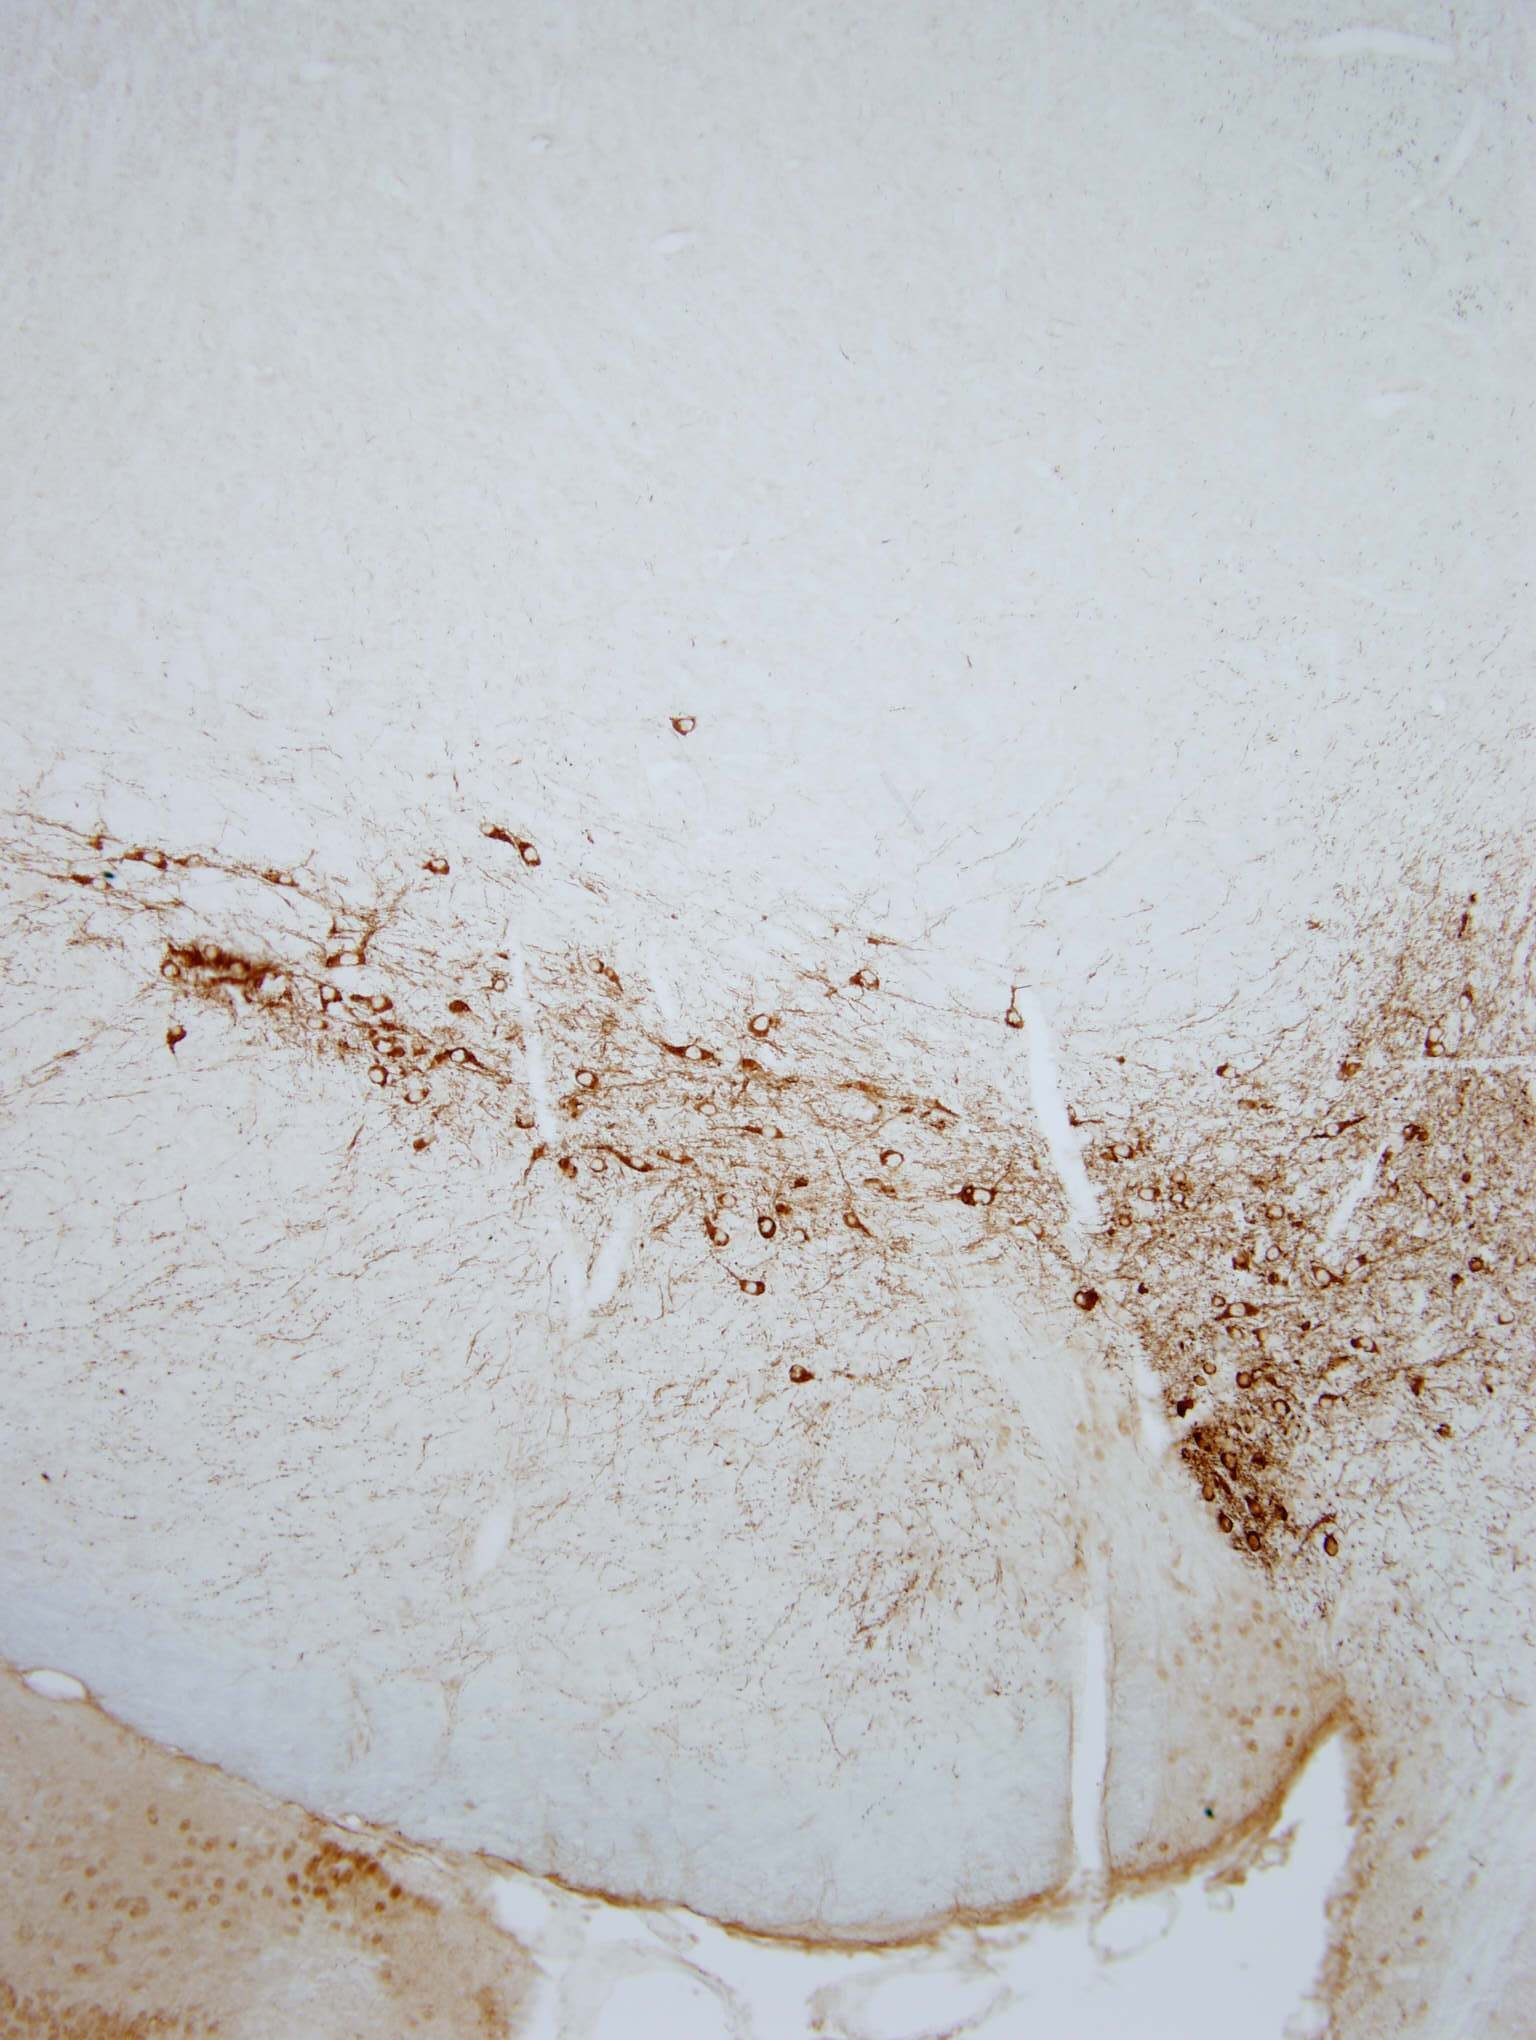neuron: (324, 932, 373, 980), (666, 1027, 715, 1076), (954, 1172, 1002, 1221), (1418, 1010, 1455, 1047), (369, 1027, 407, 1064), (1105, 1132, 1142, 1168), (1220, 1293, 1255, 1330), (1307, 1259, 1342, 1297), (132, 839, 168, 876), (1349, 1326, 1384, 1363), (160, 1014, 195, 1051), (311, 977, 349, 1013), (363, 985, 399, 1022), (400, 1077, 436, 1114), (423, 847, 458, 884), (444, 1039, 479, 1076), (749, 1211, 786, 1247), (77, 864, 113, 901), (784, 1356, 820, 1393), (874, 1142, 912, 1177), (999, 1001, 1034, 1039), (1184, 1426, 1220, 1461), (1339, 1245, 1375, 1280), (224, 951, 260, 987), (265, 858, 300, 893), (361, 1060, 397, 1095), (513, 837, 549, 872), (573, 1061, 608, 1097), (620, 1145, 655, 1180), (660, 1140, 695, 1176), (668, 706, 703, 742), (703, 1218, 739, 1253), (736, 1269, 771, 1305), (744, 1010, 779, 1045), (752, 1114, 787, 1150), (852, 964, 887, 1000), (1113, 1209, 1137, 1234), (1167, 1189, 1191, 1213), (1207, 1289, 1231, 1313), (1218, 1060, 1242, 1084), (1220, 1451, 1244, 1476), (1223, 1322, 1247, 1347), (1233, 1369, 1257, 1393), (1242, 1497, 1267, 1521), (1250, 1322, 1275, 1347), (1262, 1243, 1286, 1268), (1265, 1201, 1289, 1226), (1271, 1397, 1296, 1421), (1318, 1390, 1342, 1414), (1318, 1534, 1342, 1558), (1323, 1118, 1347, 1142), (1426, 1037, 1450, 1061), (1455, 989, 1480, 1013), (200, 940, 224, 964), (307, 1011, 331, 1035), (476, 819, 500, 843), (582, 953, 607, 977), (587, 1153, 611, 1177), (697, 1098, 721, 1122), (716, 1189, 741, 1213), (791, 1226, 815, 1250), (842, 1209, 866, 1234), (1137, 1184, 1162, 1206), (1199, 1482, 1221, 1506), (1213, 1513, 1238, 1535), (1244, 1534, 1268, 1556), (1496, 1308, 1518, 1332), (160, 958, 182, 982)
